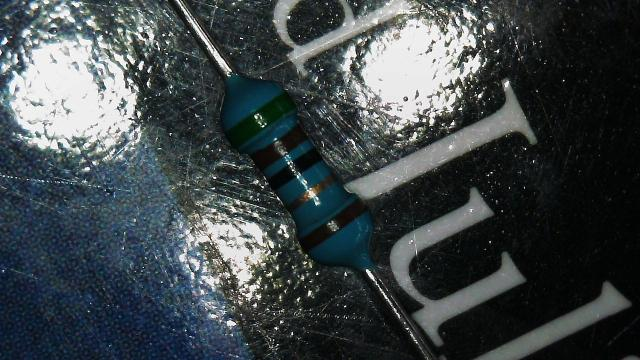black: (268, 147, 322, 190)
brown: (298, 198, 366, 251), (250, 124, 308, 170)
gold: (287, 172, 336, 210)
green: (226, 90, 294, 148)
resistor: (208, 69, 396, 280)
